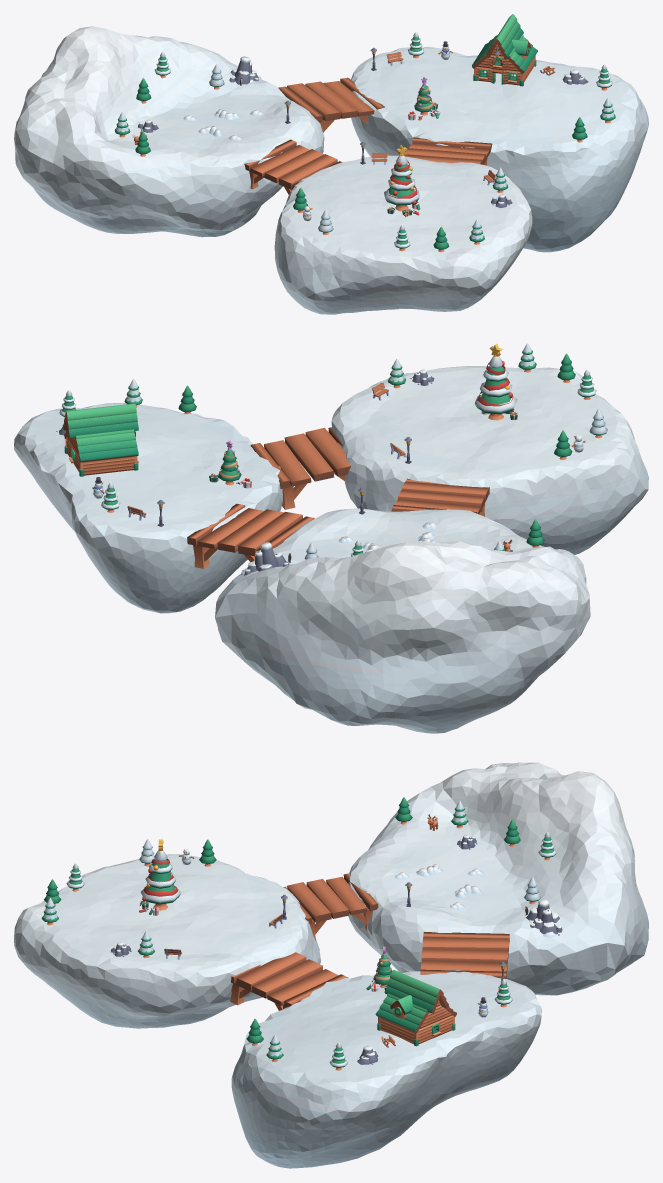
Rendered from Wonderland.glb.
3 renders of one model, top to bottom at view 1: azimuth 30°, elevation 25°; view 2: azimuth 150°, elevation 25°; view 3: azimuth 270°, elevation 25°, orthographic. The views are drawn at different scales.
Parts seen in each view (by area): view 1: Cube.001, Cube, Cube.002, cabin-corner-bottom.002, structure-platform.002, structure-platform, structure-platform.001, tree-decorated-snow.001, rocks-large, tree-decorated.001; view 2: Cube.001, Cube.002, Cube, cabin-corner-bottom.002, structure-platform.001, structure-platform.002, structure-platform, tree-decorated-snow.001, rocks-large, tree-decorated.001; view 3: Cube.001, Cube, Cube.002, cabin-corner-bottom.002, structure-platform.001, structure-platform.002, structure-platform, tree-decorated-snow.001, rocks-large.
Part boxes in pixels (x1=…): Cube.001: x1=14, y1=26, x2=324, y2=237; Cube: x1=351, y1=46, x2=648, y2=252; Cube.002: x1=274, y1=155, x2=532, y2=314; cabin-corner-bottom.002: x1=472, y1=14, x2=537, y2=86; structure-platform.002: x1=278, y1=77, x2=384, y2=132; structure-platform: x1=244, y1=139, x2=342, y2=194; structure-platform.001: x1=404, y1=137, x2=492, y2=165; tree-decorated-snow.001: x1=384, y1=145, x2=419, y2=211; rocks-large: x1=229, y1=56, x2=261, y2=84; tree-decorated.001: x1=414, y1=77, x2=434, y2=115; Cube.001: x1=215, y1=508, x2=590, y2=733; Cube.002: x1=331, y1=366, x2=648, y2=554; Cube: x1=14, y1=403, x2=282, y2=613; cabin-corner-bottom.002: x1=63, y1=403, x2=138, y2=476; structure-platform.001: x1=250, y1=427, x2=351, y2=509; structure-platform.002: x1=187, y1=503, x2=314, y2=568; structure-platform: x1=391, y1=478, x2=489, y2=516; tree-decorated-snow.001: x1=474, y1=343, x2=517, y2=420; rocks-large: x1=241, y1=542, x2=289, y2=575; tree-decorated.001: x1=218, y1=440, x2=241, y2=485; Cube.001: x1=348, y1=762, x2=648, y2=995; Cube: x1=231, y1=970, x2=541, y2=1168; Cube.002: x1=14, y1=854, x2=320, y2=1028; cabin-corner-bottom.002: x1=375, y1=970, x2=456, y2=1046; structure-platform.001: x1=230, y1=952, x2=348, y2=1010; structure-platform.002: x1=420, y1=932, x2=509, y2=978; structure-platform: x1=283, y1=873, x2=378, y2=940; tree-decorated-snow.001: x1=140, y1=839, x2=180, y2=910; rocks-large: x1=526, y1=899, x2=562, y2=937.
Size of the model in its own units: 46.06 by 15.95 by 42.54.
Materials: 87 (87 with a texture image).
